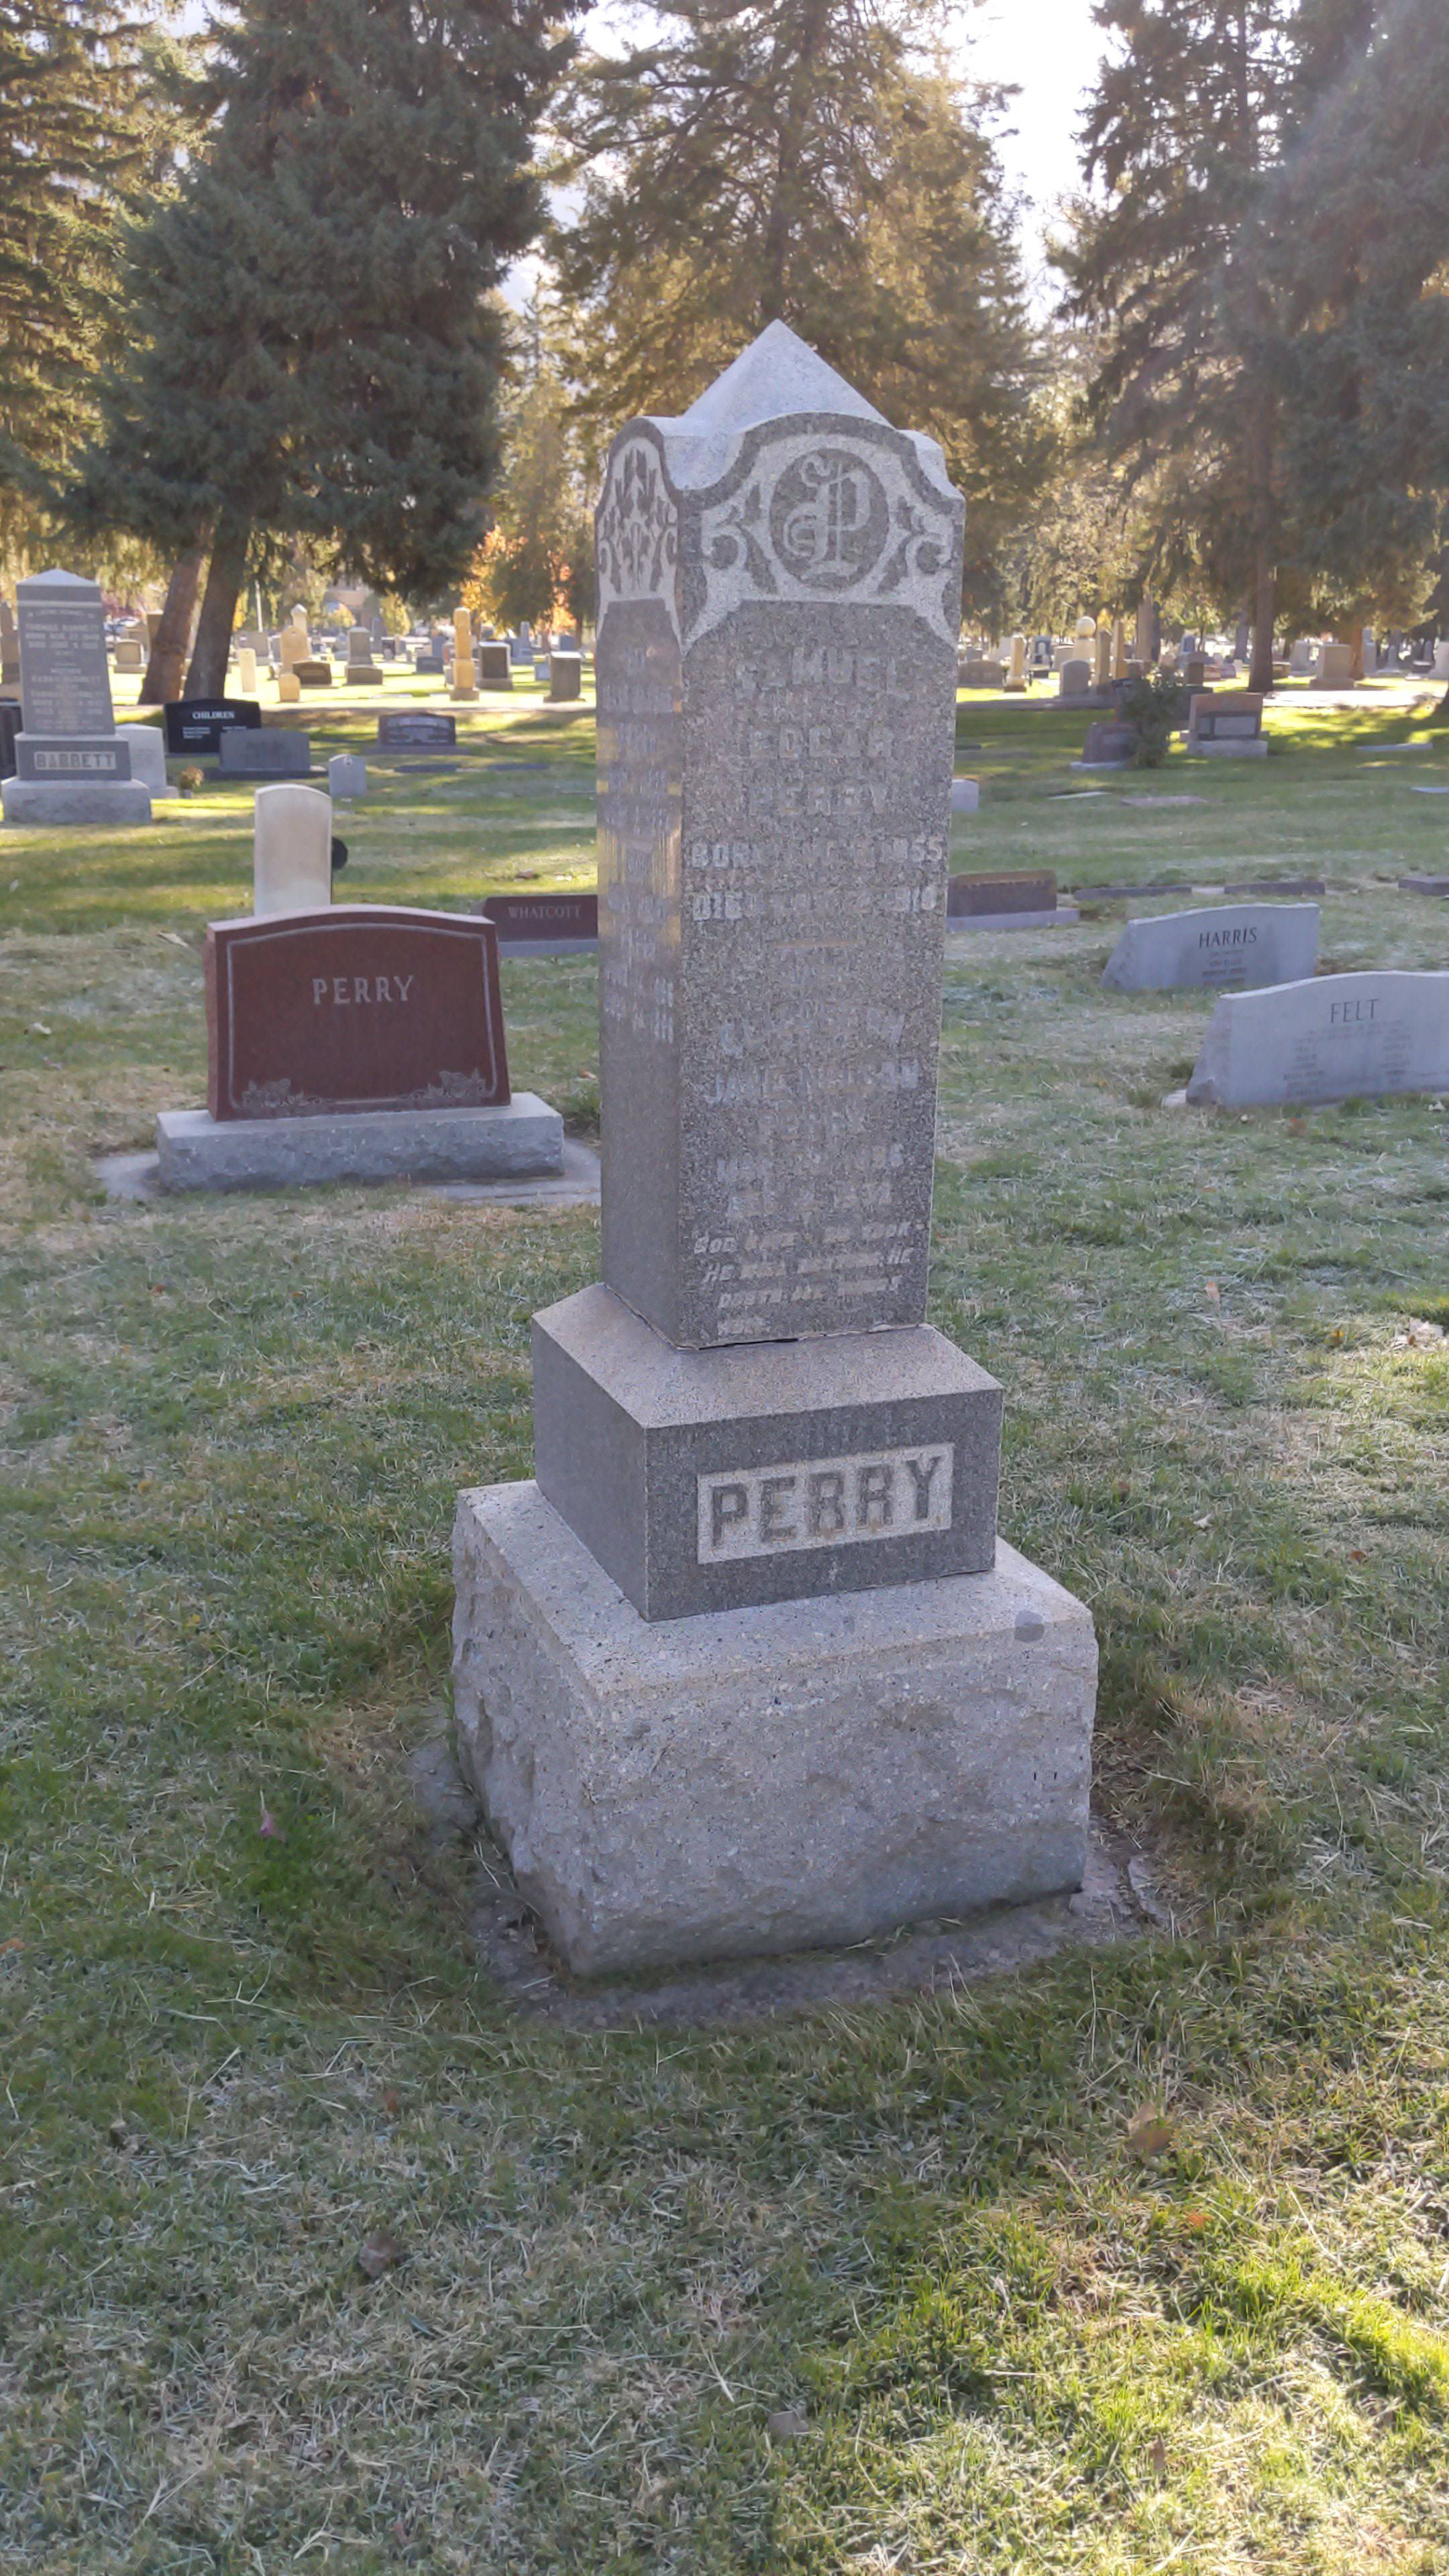obelisk: (527, 331, 993, 1621)
